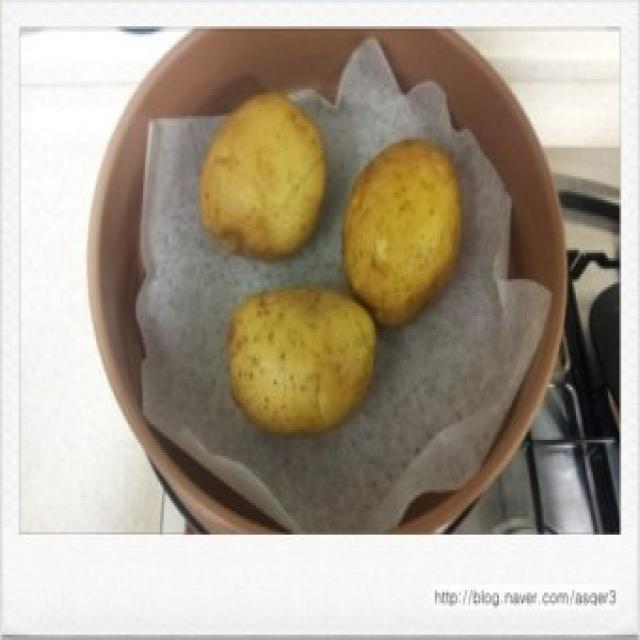potato: (225, 274, 378, 440), (338, 133, 466, 324), (194, 86, 327, 258)
